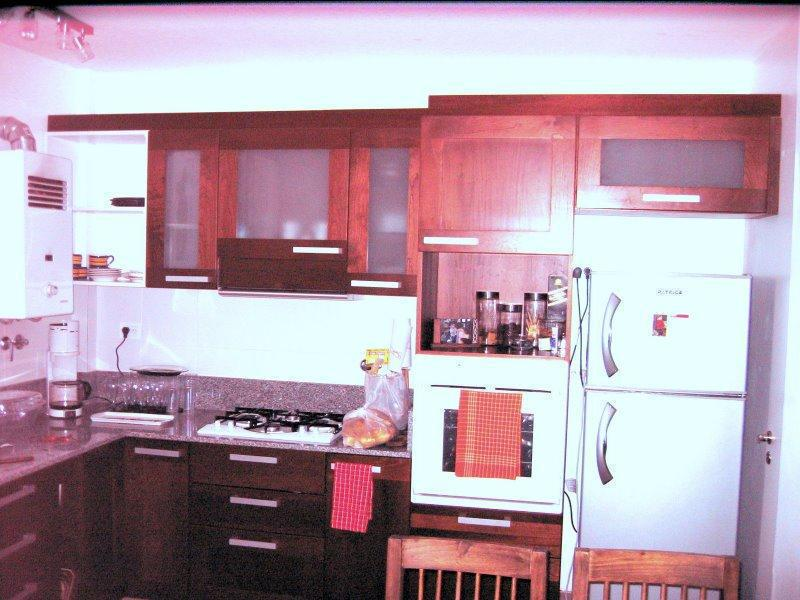Electrodomestico: (579, 260, 740, 551), (418, 357, 560, 519)
